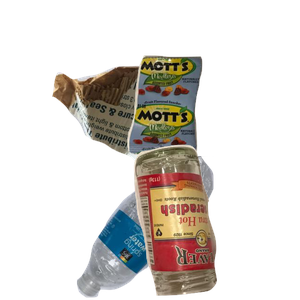cardboard: (50, 62, 228, 226)
glass: (131, 142, 300, 300)
plastic: (74, 156, 280, 300)
trash: (125, 53, 300, 201)
